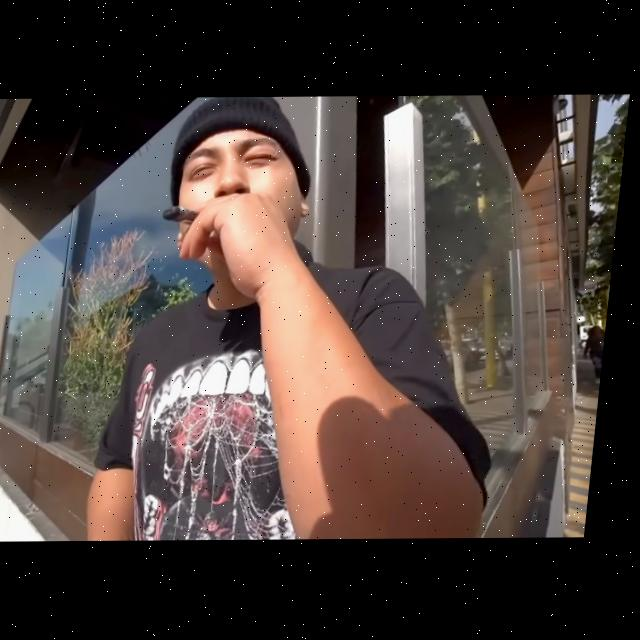vape: (166, 206, 205, 226)
